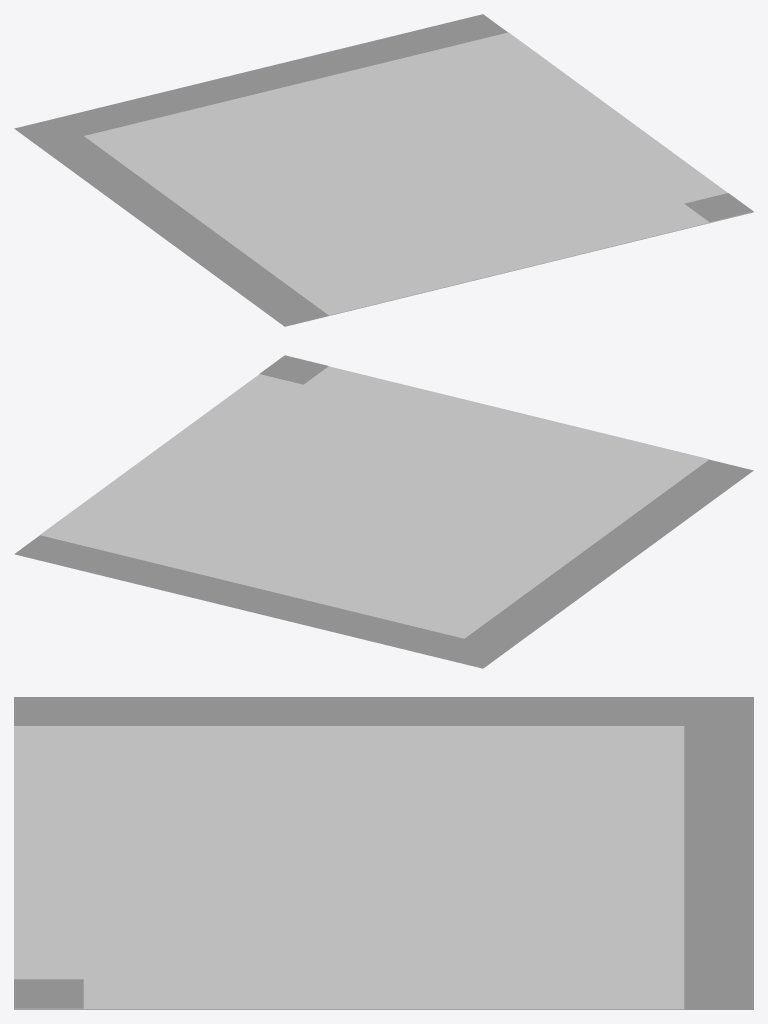
The model's file is tile_for_home_1x1_021.glb.
The picture shows the model from 3 angles, top to bottom: view 1: azimuth 30°, elevation 25°; view 2: azimuth 150°, elevation 25°; view 3: azimuth 270°, elevation 25°; orthographic projection. The views are drawn at different scales.
Parts seen in each view (by area): view 1: tile_for_home_1x1_021; view 2: tile_for_home_1x1_021; view 3: tile_for_home_1x1_021.
Boxes of the visible parts, x1,y1,x2,y2 form: tile_for_home_1x1_021: [14, 14, 753, 326]; tile_for_home_1x1_021: [14, 355, 753, 668]; tile_for_home_1x1_021: [14, 697, 753, 1009].
Size of the model in its own units: 8 by 0.0128 by 8.
1 material, 1 textured.
